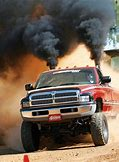smoke: (1, 2, 62, 63), (61, 1, 114, 60)
